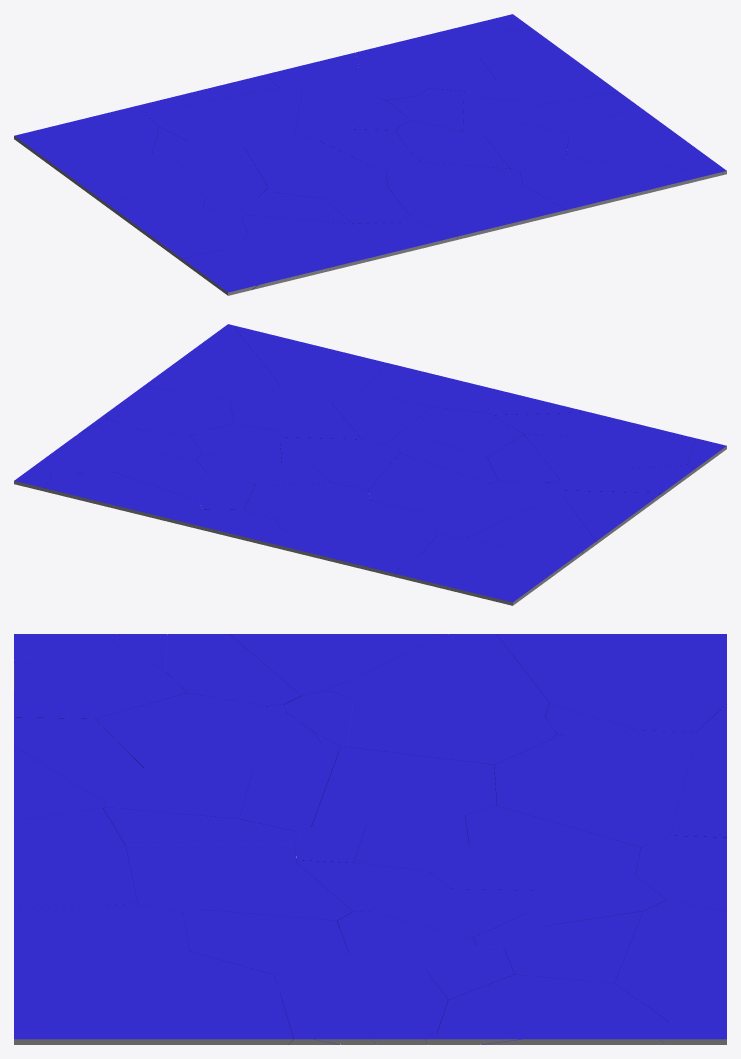
Rendered from SM_Mirror_Debris.fbx.
The picture shows the model from 3 angles, top to bottom: view 1: azimuth 30°, elevation 25°; view 2: azimuth 150°, elevation 25°; view 3: azimuth 270°, elevation 25°; orthographic projection. The views are drawn at different scales.
Parts seen in each view (by area): view 1: Glass_cell.005, Glass_cell.021, Glass_cell.025, Glass_cell.044, Glass_cell.038, Glass_cell.019, Glass_cell.012, Glass_cell.030, Glass_cell.041, Glass_cell.031, Glass_cell.035, Glass_cell.042 (+31 smaller); view 2: Glass_cell.005, Glass_cell.021, Glass_cell.025, Glass_cell.044, Glass_cell.041, Glass_cell.038, Glass_cell.012, Glass_cell.030, Glass_cell.019, Glass_cell.035, Glass_cell.031, Glass_cell.042 (+30 smaller); view 3: Glass_cell.005, Glass_cell.021, Glass_cell.044, Glass_cell.025, Glass_cell.038, Glass_cell.012, Glass_cell.030, Glass_cell.041, Glass_cell.019, Glass_cell.035, Glass_cell.031, Glass_cell.042 (+33 smaller).
Boxes of the visible parts, left/top/right/bottom form: Glass_cell.005: left=14, top=113, right=158, bottom=189; Glass_cell.021: left=144, top=87, right=302, bottom=147; Glass_cell.025: left=520, top=158, right=723, bottom=213; Glass_cell.044: left=566, top=109, right=726, bottom=174; Glass_cell.038: left=478, top=29, right=592, bottom=87; Glass_cell.019: left=416, top=184, right=566, bottom=239; Glass_cell.012: left=245, top=135, right=375, bottom=186; Glass_cell.030: left=83, top=151, right=204, bottom=206; Glass_cell.041: left=355, top=21, right=508, bottom=70; Glass_cell.031: left=209, top=237, right=330, bottom=286; Glass_cell.035: left=170, top=142, right=266, bottom=198; Glass_cell.042: left=294, top=83, right=379, bottom=138; Glass_cell.005: left=401, top=543, right=582, bottom=605; Glass_cell.021: left=276, top=500, right=436, bottom=566; Glass_cell.025: left=233, top=325, right=388, bottom=399; Glass_cell.044: left=144, top=324, right=282, bottom=400; Glass_cell.041: left=41, top=473, right=203, bottom=522; Glass_cell.038: left=35, top=419, right=157, bottom=473; Glass_cell.012: left=368, top=453, right=489, bottom=511; Glass_cell.030: left=467, top=498, right=596, bottom=554; Glass_cell.019: left=358, top=363, right=497, bottom=412; Glass_cell.035: left=422, top=485, right=545, bottom=537; Glass_cell.031: left=598, top=421, right=695, bottom=467; Glass_cell.042: left=243, top=482, right=370, bottom=519; Glass_cell.005: left=496, top=634, right=726, bottom=732; Glass_cell.021: left=494, top=730, right=697, bottom=847; Glass_cell.044: left=14, top=951, right=293, bottom=1044; Glass_cell.025: left=14, top=903, right=189, bottom=1035; Glass_cell.038: left=437, top=974, right=669, bottom=1044; Glass_cell.012: left=311, top=746, right=496, bottom=826; Glass_cell.030: left=327, top=634, right=549, bottom=716; Glass_cell.041: left=614, top=900, right=726, bottom=1022; Glass_cell.019: left=14, top=808, right=137, bottom=908; Glass_cell.035: left=347, top=698, right=556, bottom=764; Glass_cell.031: left=14, top=642, right=186, bottom=718; Glass_cell.042: left=465, top=805, right=640, bottom=887.
Size of the model in its own units: 780 by 5 by 580.
